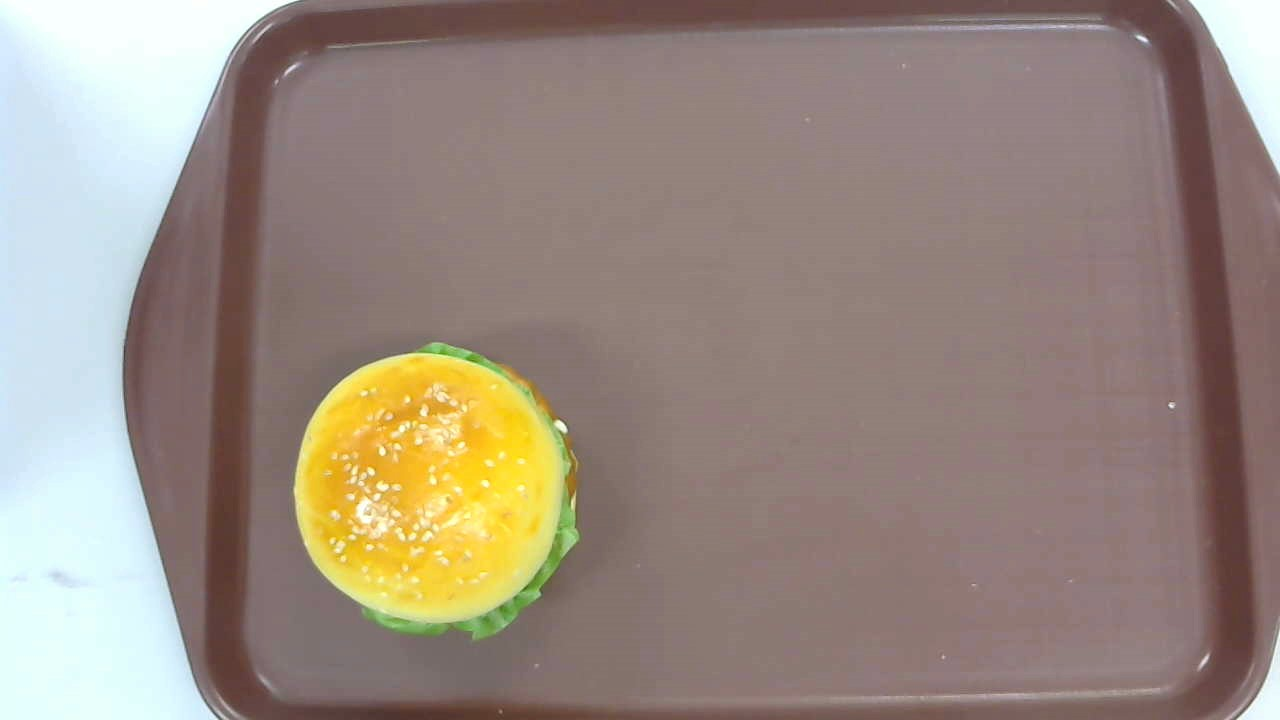hamburger: (294, 341, 583, 640)
